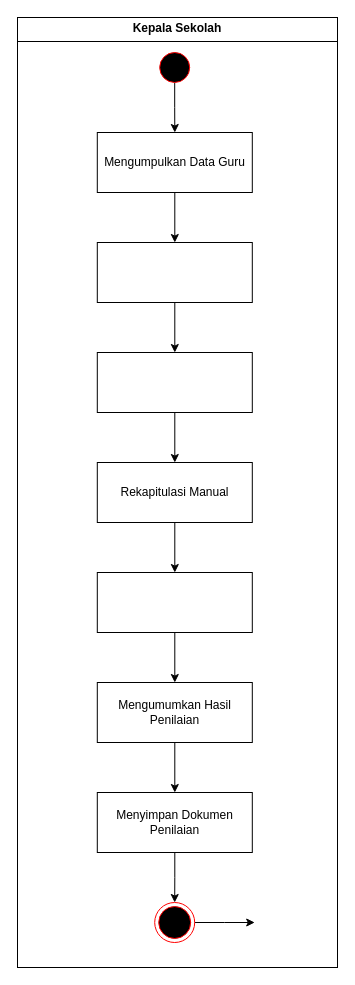
Some shapes in this 355 by 985 pixel diagram are drawn without their labels. Here are the shapes that lost their labels. From the top down, the centre of each, then its label:
At pixel 174 272: "Menentukan Kriteria Penilaian".
At pixel 174 382: "Melakukan Penilaian Manual".
At pixel 174 602: "Menentukan Guru Terbaik".
